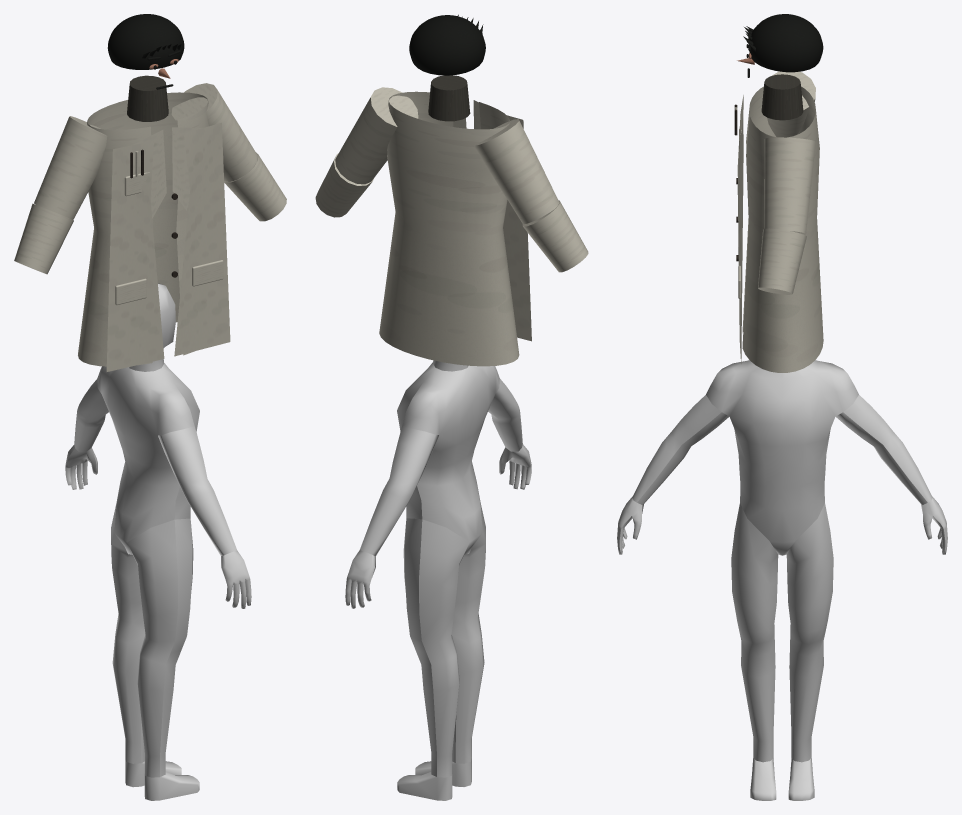
Rendered from deni-doctor-mixamo.obj.
The picture shows the model from 3 angles, left to right: view 1: azimuth 30°, elevation 25°; view 2: azimuth 150°, elevation 25°; view 3: azimuth 270°, elevation 25°; orthographic projection.
Parts seen in each view (by area): view 1: Deni_Body_Skinned, Coat_ContinuousShell, Coat_RightFrontPanel, Coat_LeftFrontPanel, Coat_RightUpperSleeve, Hair_Cap, Coat_LeftUpperSleeve, Coat_RightLowerSleeve, Coat_LeftLowerSleeve, Sweater_Turtleneck, Coat_LapelLeft, Coat_LapelRight (+2 smaller); view 2: Deni_Body_Skinned, Coat_ContinuousShell, Coat_RightUpperSleeve, Coat_LeftUpperSleeve, Hair_Cap, Coat_RightFrontPanel, Coat_RightLowerSleeve, Sweater_Turtleneck, Coat_LeftLowerSleeve; view 3: Deni_Body_Skinned, Coat_ContinuousShell, Coat_LeftUpperSleeve, Hair_Cap, Coat_LeftLowerSleeve, Sweater_Turtleneck, Coat_RightUpperSleeve, Coat_LeftFrontPanel.
Boxes of the visible parts, left/top/right/bottom form: Deni_Body_Skinned: left=65, top=283, right=251, bottom=800; Coat_ContinuousShell: left=78, top=92, right=208, bottom=366; Coat_RightFrontPanel: left=106, top=141, right=164, bottom=371; Coat_LeftFrontPanel: left=174, top=122, right=230, bottom=356; Coat_RightUpperSleeve: left=34, top=116, right=107, bottom=219; Hair_Cap: left=107, top=14, right=184, bottom=69; Coat_LeftUpperSleeve: left=171, top=83, right=257, bottom=181; Coat_RightLowerSleeve: left=14, top=203, right=73, bottom=274; Coat_LeftLowerSleeve: left=224, top=152, right=286, bottom=221; Sweater_Turtleneck: left=127, top=75, right=168, bottom=121; Coat_LapelLeft: left=172, top=127, right=202, bottom=210; Coat_LapelRight: left=133, top=130, right=166, bottom=218; Deni_Body_Skinned: left=345, top=360, right=531, bottom=800; Coat_ContinuousShell: left=379, top=91, right=519, bottom=366; Coat_RightUpperSleeve: left=474, top=119, right=559, bottom=224; Coat_LeftUpperSleeve: left=335, top=87, right=418, bottom=184; Hair_Cap: left=409, top=15, right=485, bottom=75; Coat_RightFrontPanel: left=503, top=115, right=531, bottom=341; Coat_RightLowerSleeve: left=522, top=200, right=588, bottom=272; Sweater_Turtleneck: left=428, top=75, right=470, bottom=121; Coat_LeftLowerSleeve: left=315, top=153, right=373, bottom=217; Deni_Body_Skinned: left=617, top=360, right=947, bottom=800; Coat_ContinuousShell: left=742, top=86, right=823, bottom=372; Coat_LeftUpperSleeve: left=764, top=137, right=815, bottom=234; Hair_Cap: left=748, top=14, right=823, bottom=72; Coat_LeftLowerSleeve: left=758, top=228, right=806, bottom=294; Sweater_Turtleneck: left=761, top=74, right=803, bottom=120; Coat_RightUpperSleeve: left=767, top=71, right=815, bottom=137; Coat_LeftFrontPanel: left=737, top=128, right=743, bottom=363.
Size of the model in its own units: 1.01 by 2.77 by 1.09.
Materials: 8 (8 with a texture image).
